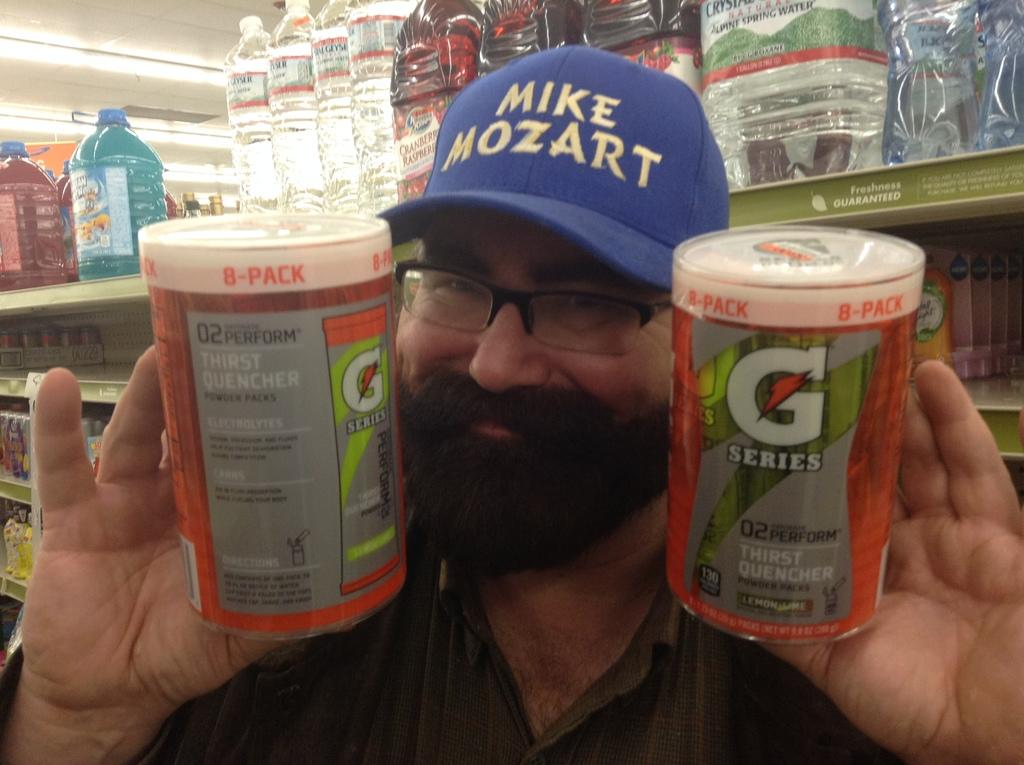Hat: (374, 40, 730, 298)
